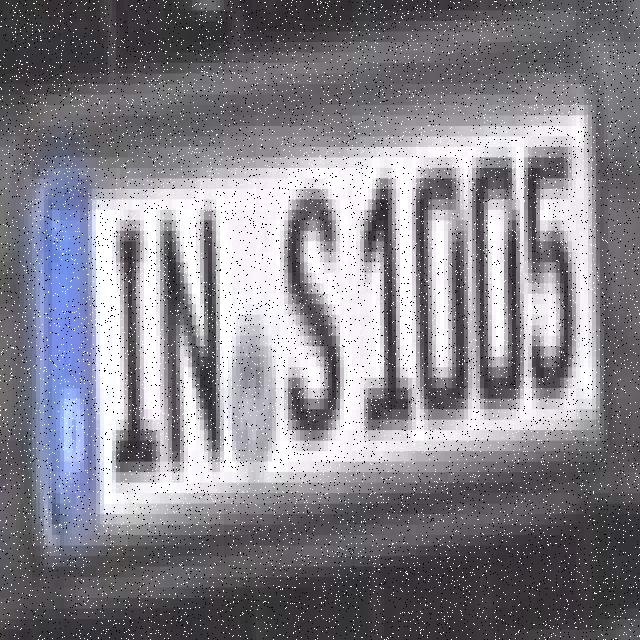licenseplate: (24, 92, 616, 576)
